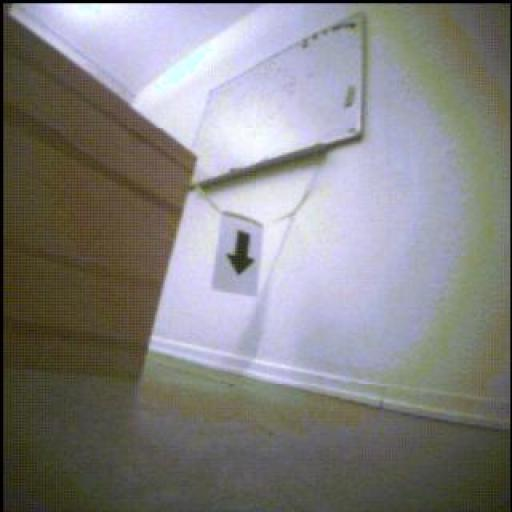Arrow: (229, 232, 256, 275)
